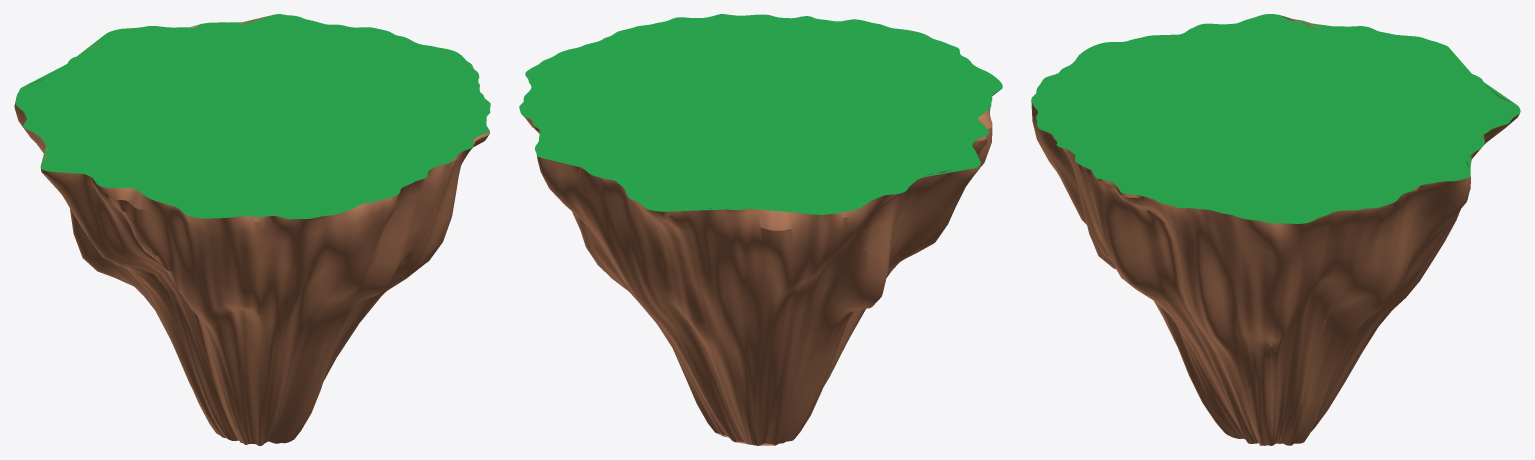
File: placeholder_island_01.fbx
The picture shows the model from 3 angles, left to right: view 1: azimuth 30°, elevation 25°; view 2: azimuth 150°, elevation 25°; view 3: azimuth 270°, elevation 25°; orthographic projection.
Parts seen in each view (by area): view 1: Cylinder.002; view 2: Cylinder.002; view 3: Cylinder.002.
Part boxes in pixels (bbox=[...]): Cylinder.002: bbox=[14, 14, 490, 445]; Cylinder.002: bbox=[519, 14, 1002, 445]; Cylinder.002: bbox=[1031, 14, 1520, 445].
Bounding box in the file's own units: 607 × 428 × 598.
